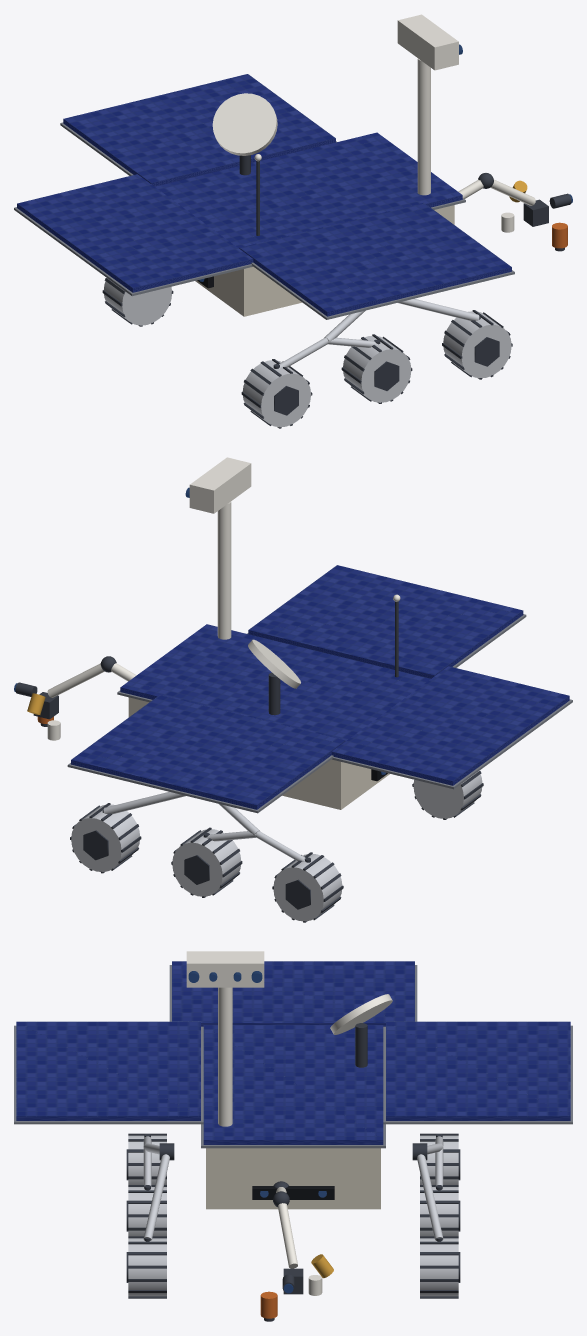
File: opportunity.glb
3 views of the same model, one above another, from view 1: azimuth 30°, elevation 25°; view 2: azimuth 150°, elevation 25°; view 3: azimuth 270°, elevation 25° (orthographic). The views are drawn at different scales.
Bounding box in the file's own units: 2.47 × 1.51 × 2.3.
Materials: 12 (3 with a texture image).
